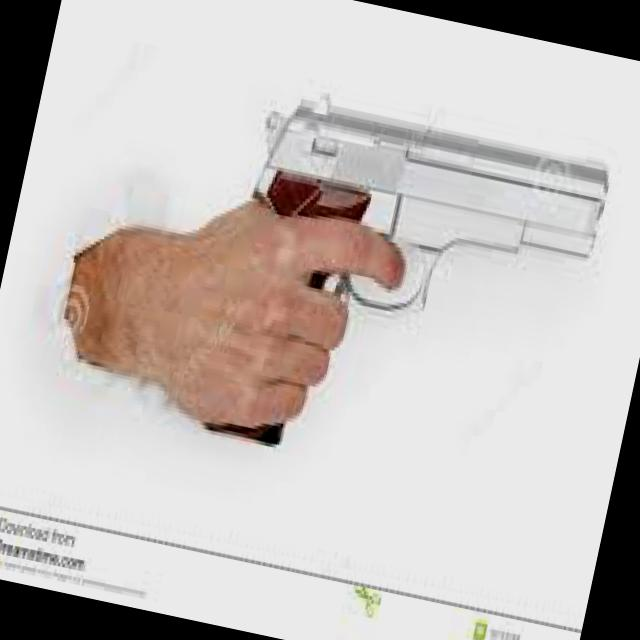handgun: (190, 73, 618, 512)
